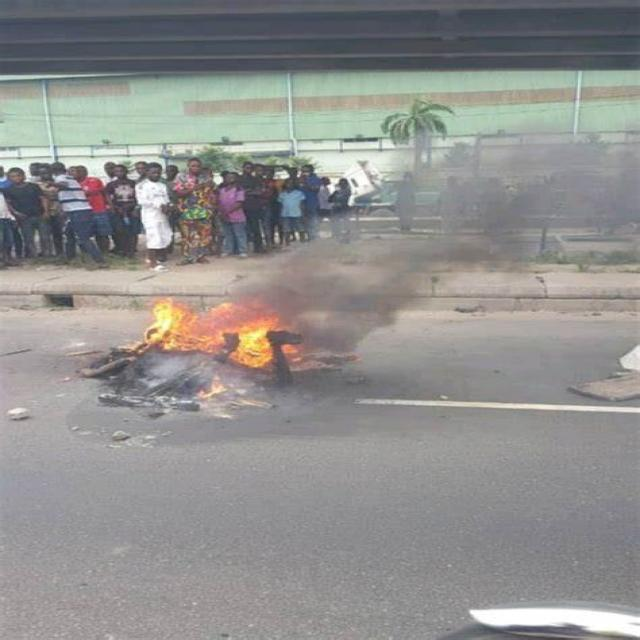fire: (148, 301, 276, 364)
smoke: (417, 138, 628, 247)
